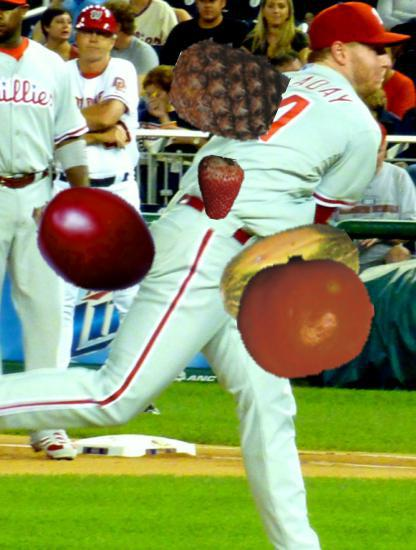Blueberry: (257, 263, 364, 370)
Clementine: (236, 246, 375, 385)
Melon: (216, 204, 361, 349)
Pineapple: (169, 35, 282, 148)
Strawberry: (186, 156, 250, 220)
Tamarillo: (26, 173, 159, 306)
